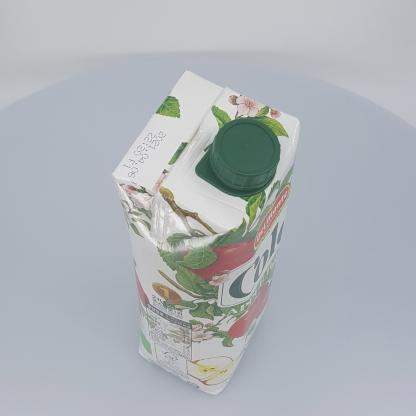------------: (111, 70, 300, 395)
